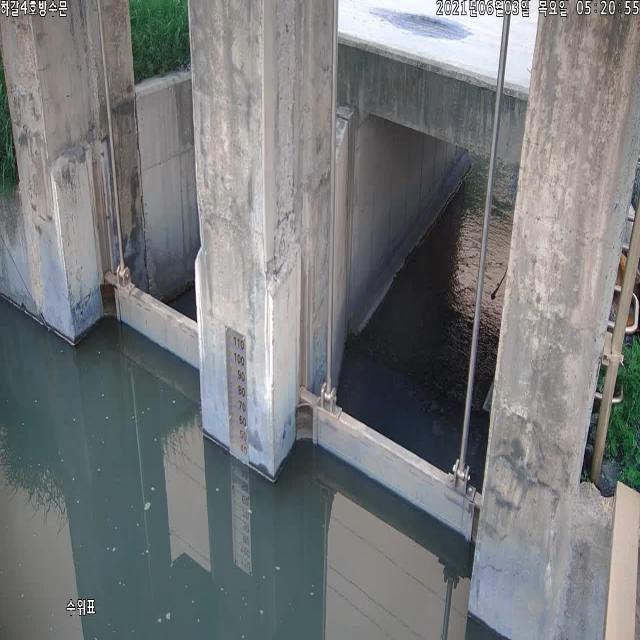ruler: (219, 317, 256, 470)
value: (232, 330, 245, 352), (233, 351, 246, 368), (236, 368, 246, 384), (238, 428, 248, 444), (238, 398, 247, 413), (238, 383, 246, 399), (239, 414, 247, 428)
